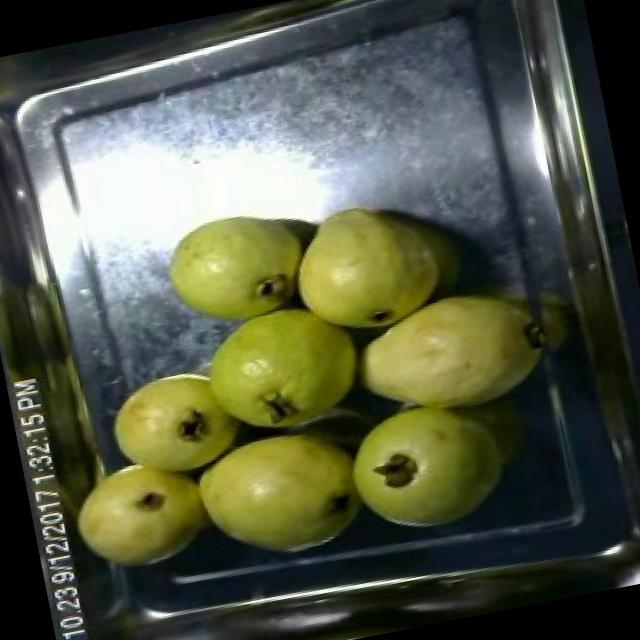Fruit: (328, 269, 557, 448), (172, 276, 389, 450), (272, 176, 476, 352), (182, 418, 398, 580), (318, 382, 520, 555), (88, 346, 276, 507), (147, 190, 330, 339), (55, 437, 225, 587)
